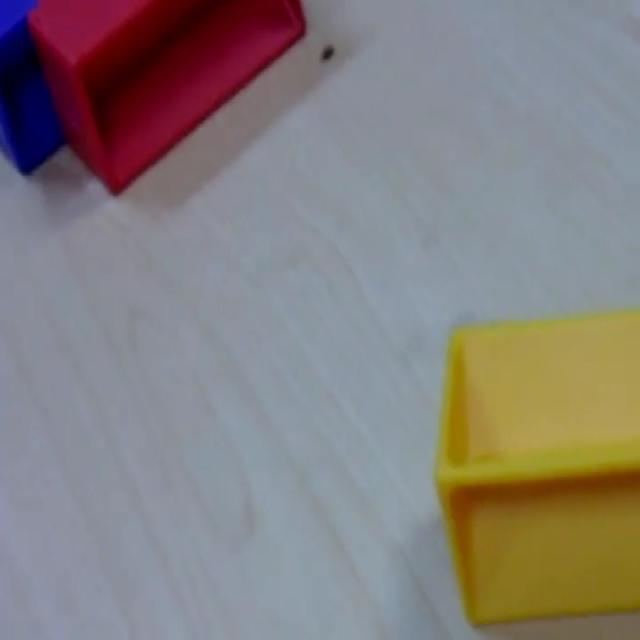red_block: (25, 0, 307, 196)
yellow_block: (434, 305, 638, 627)
